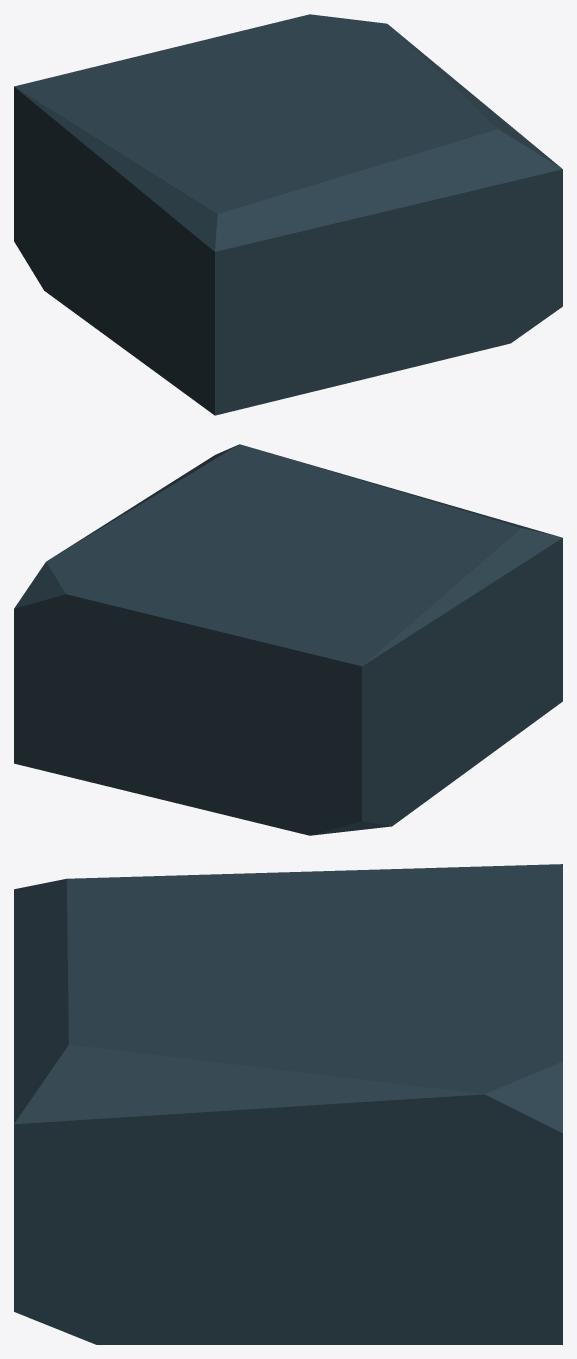
Rendered from loose_stone_small.fbx.
The picture shows the model from 3 angles, top to bottom: view 1: azimuth 30°, elevation 25°; view 2: azimuth 150°, elevation 25°; view 3: azimuth 270°, elevation 25°; orthographic projection. The views are drawn at different scales.
Visible parts, largest first — view 1: loose_stone_small; view 2: loose_stone_small; view 3: loose_stone_small.
Part boxes in pixels (x1=…): loose_stone_small: x1=14, y1=14, x2=562, y2=415; loose_stone_small: x1=14, y1=444, x2=562, y2=835; loose_stone_small: x1=14, y1=864, x2=562, y2=1344.
Size of the model in its own units: 50 by 27.17 by 50.
